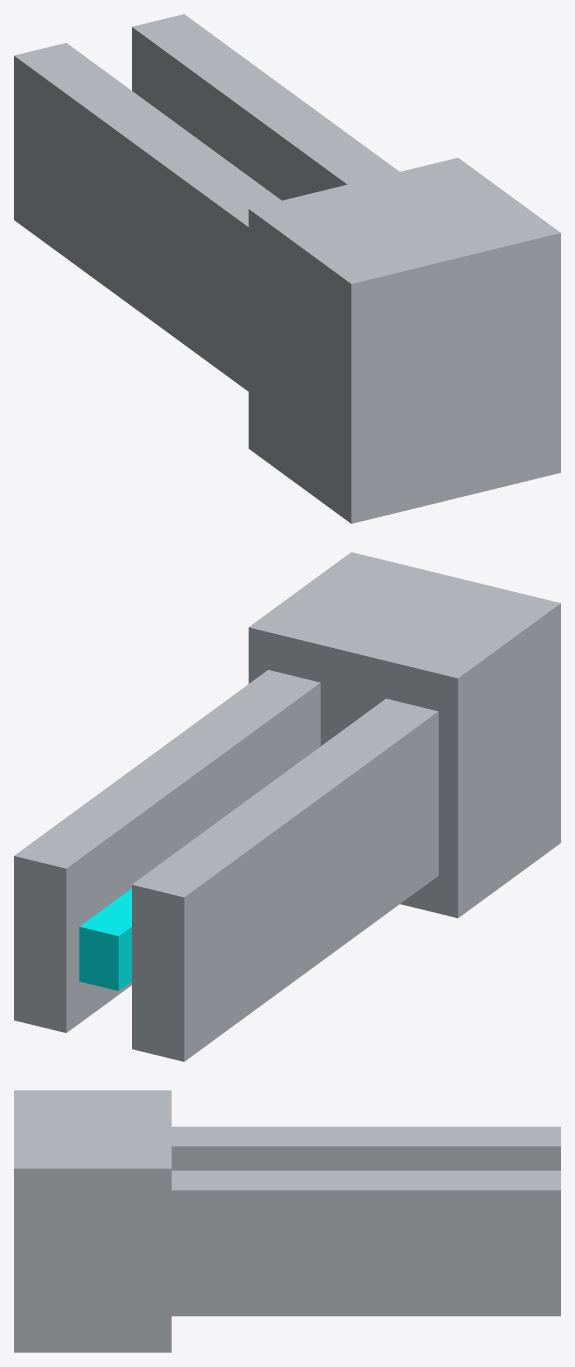
Rendered from Weapons_Railgun_04.glb.
The picture shows the model from 3 angles, top to bottom: view 1: azimuth 30°, elevation 25°; view 2: azimuth 150°, elevation 25°; view 3: azimuth 270°, elevation 25°; orthographic projection. The views are drawn at different scales.
Parts seen in each view (by area): view 1: Weapons_Railgun_04_gltf_export_temp; view 2: Weapons_Railgun_04_gltf_export_temp; view 3: Weapons_Railgun_04_gltf_export_temp.
Boxes of the visible parts, bbox=[...] form: Weapons_Railgun_04_gltf_export_temp: bbox=[14, 14, 560, 523]; Weapons_Railgun_04_gltf_export_temp: bbox=[14, 552, 560, 1061]; Weapons_Railgun_04_gltf_export_temp: bbox=[14, 1090, 560, 1352].
Bounding box in the file's own units: 0.3404 × 0.3723 × 1.
